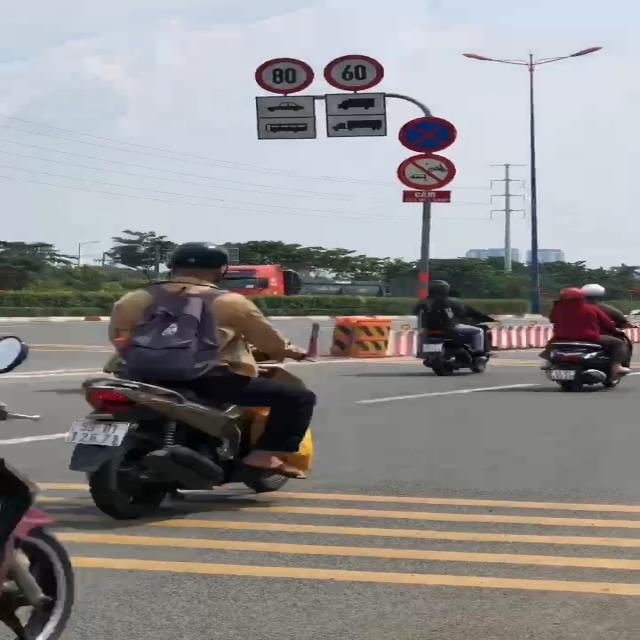Bien bao cam dung xe va do xe: (393, 111, 463, 156)
Bien bao toc do toi da cho phep: (321, 52, 389, 94), (252, 56, 315, 93)
